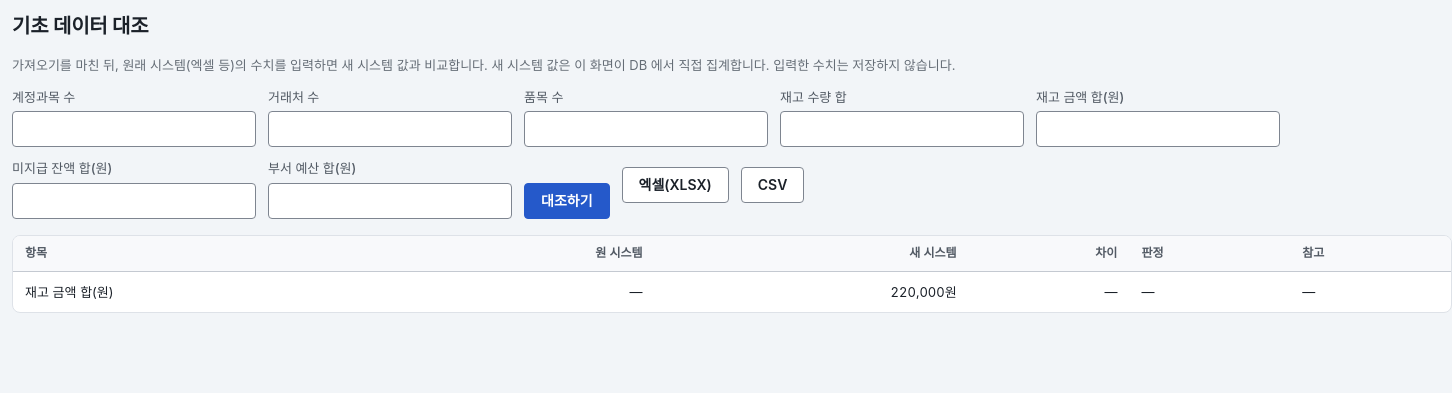
Test: 기초 데이터 대조 화면 › 숫자가 아니면 조회하지 않고 한국어 안내를 보인다
Expected: the table named "기초 데이터 대조" is shown, x1=13 y1=236 x2=1451 y2=312
Type "열두 개" into the field labelled "품목 수".
click(646, 129); type("열두 개")  # box x1=524 y1=111 x2=768 y2=147
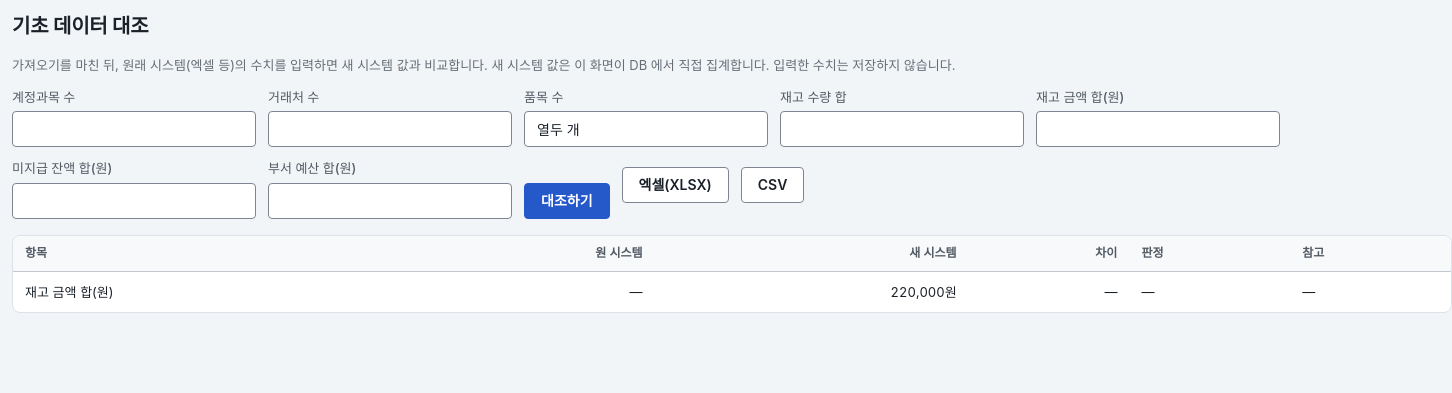
Click the button "대조하기".
click(567, 200)  # box x1=524 y1=182 x2=610 y2=218
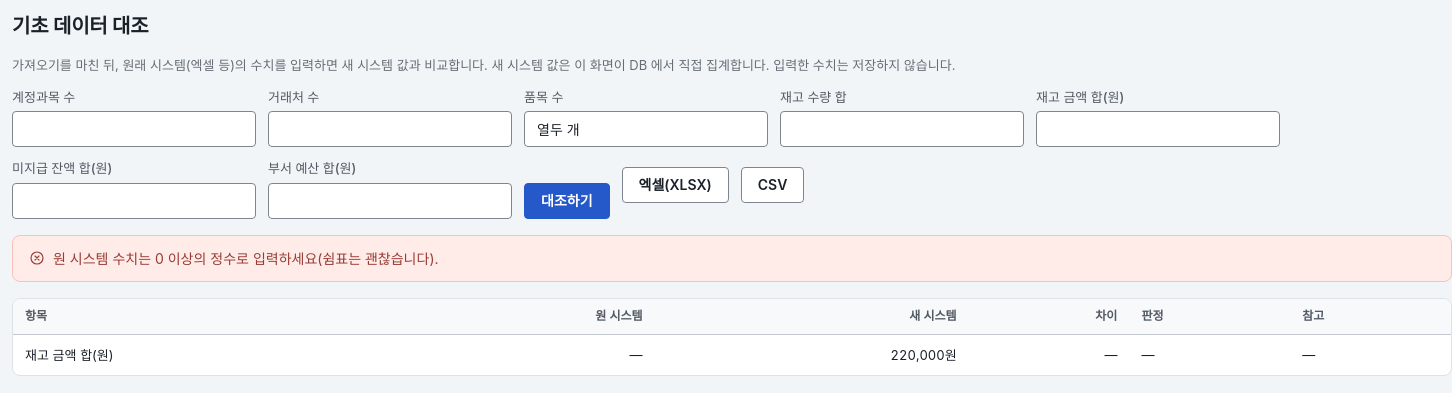
Expected: the text "원 시스템 수치는 0 이상의 정수로 입력하세요(쉼표는 괜찮습니다)." is shown, x1=53 y1=248 x2=438 y2=268
